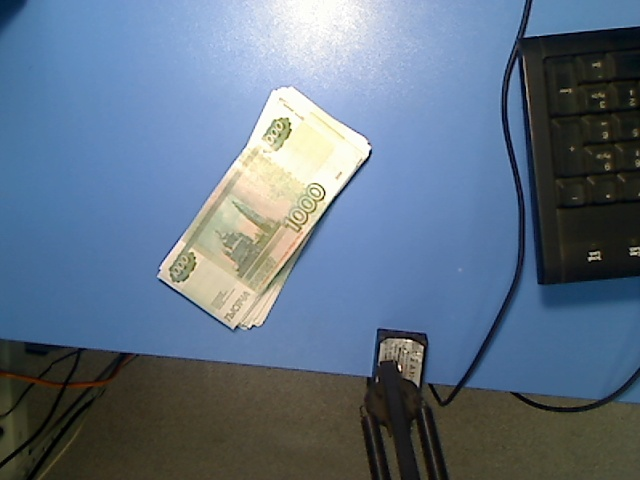banknotes: (154, 84, 373, 333)
